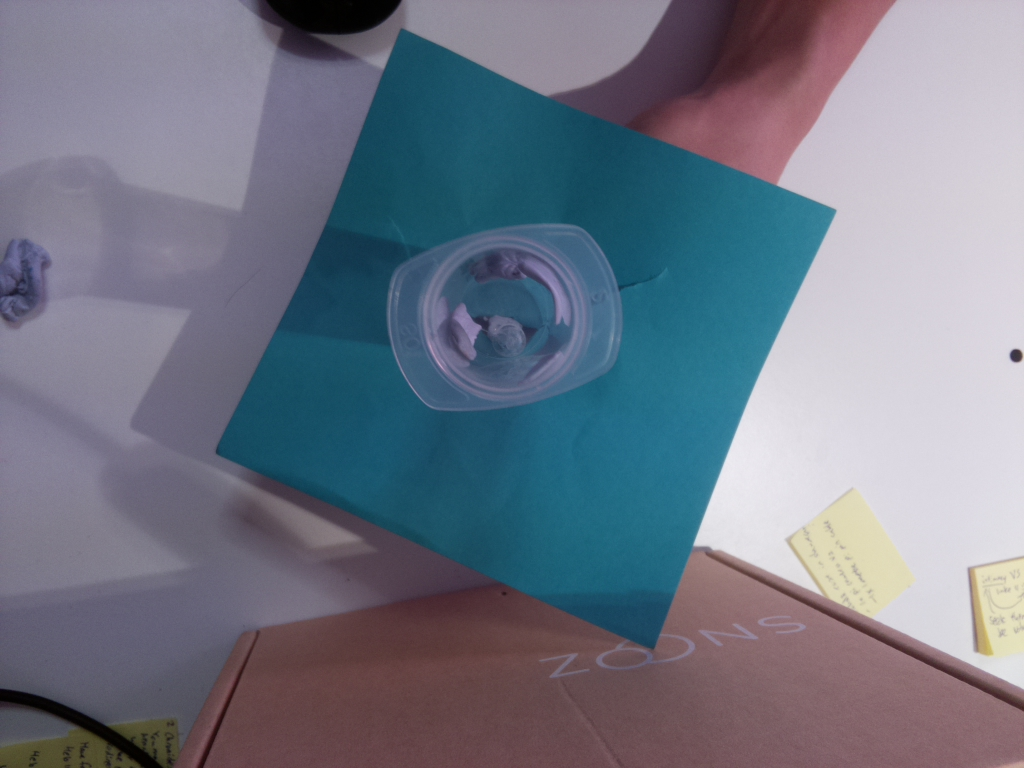dirty: (385, 223, 626, 412)
